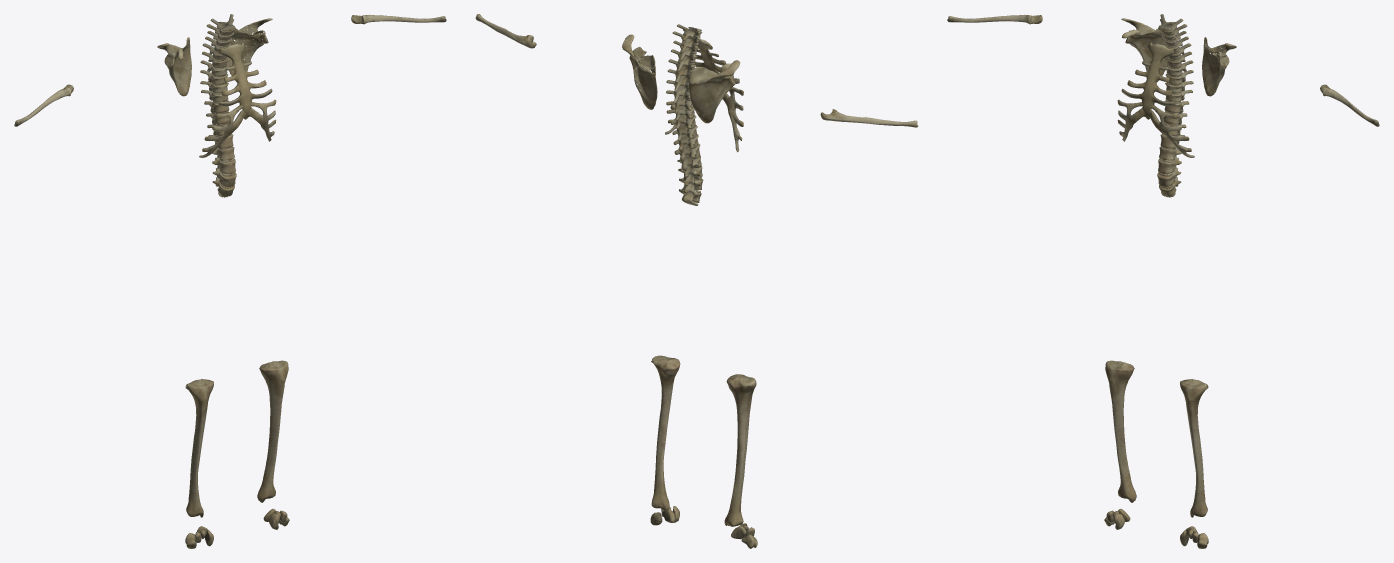
Rendered from HumanSkeleton_part_1.fbx.
The picture shows the model from 3 angles, left to right: view 1: azimuth 30°, elevation 25°; view 2: azimuth 150°, elevation 25°; view 3: azimuth 330°, elevation 25°; orthographic projection. The views are drawn at different scales.
Parts seen in each view (by area): view 1: Skeletal_Esqueleto_0.003; view 2: Skeletal_Esqueleto_0.003; view 3: Skeletal_Esqueleto_0.003.
Boxes of the visible parts, box(x1,y1,x2,y2) form: Skeletal_Esqueleto_0.003: box(14, 14, 446, 548); Skeletal_Esqueleto_0.003: box(475, 14, 918, 548); Skeletal_Esqueleto_0.003: box(947, 14, 1379, 548).
Size of the model in its own units: 13890 by 15611 by 2401.
